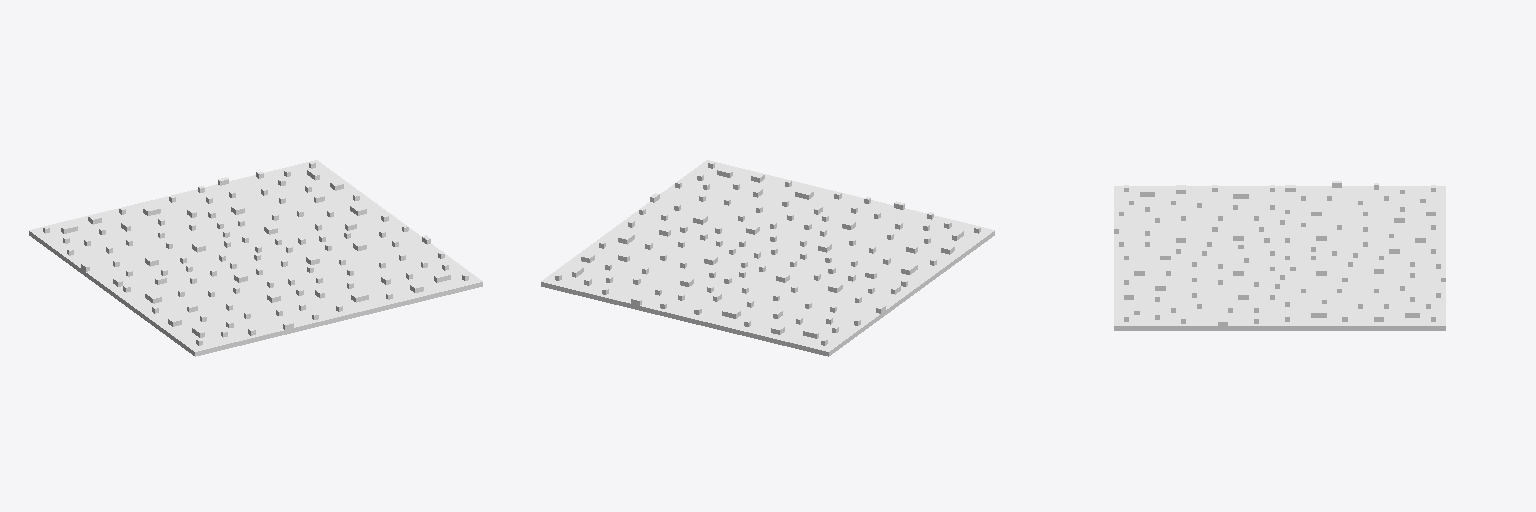
File: Asphalt.obj
3 views of the same model, side by side, from view 1: azimuth 30°, elevation 25°; view 2: azimuth 150°, elevation 25°; view 3: azimuth 270°, elevation 25° (orthographic).
Visible parts, largest first — view 1: Asphalt.001; view 2: Asphalt.001; view 3: Asphalt.001.
Part boxes in pixels (x1,y1,x2,y2): Asphalt.001: (29, 160, 482, 356); Asphalt.001: (541, 160, 994, 356); Asphalt.001: (1114, 181, 1445, 330).
Bounding box in the file's own units: 1 × 0.0313 × 1.